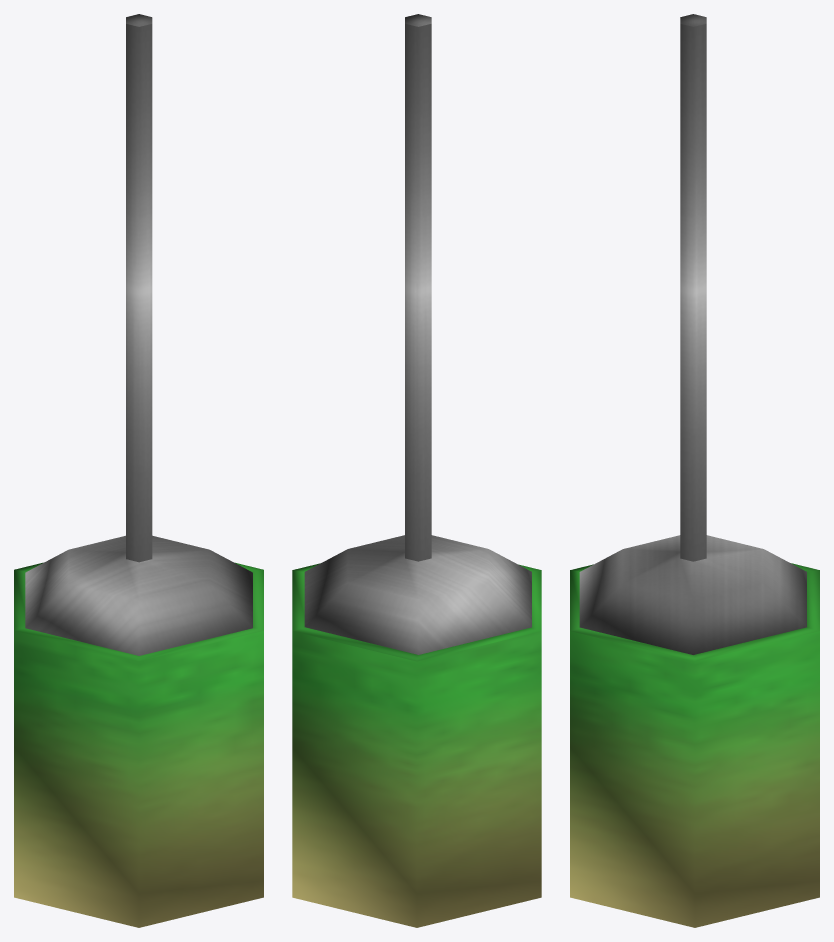
The model's file is Pendant_Light_E.FBX.
The picture shows the model from 3 angles, left to right: view 1: azimuth 30°, elevation 25°; view 2: azimuth 150°, elevation 25°; view 3: azimuth 270°, elevation 25°; orthographic projection.
Visible parts, largest first — view 1: Pendant light; view 2: Pendant light; view 3: Pendant light.
Part boxes in pixels (left/top/right/bottom): Pendant light: left=14, top=14, right=263, bottom=927; Pendant light: left=292, top=14, right=541, bottom=927; Pendant light: left=570, top=14, right=819, bottom=927.
Size of the model in its own units: 75.21 by 244 by 65.13.
